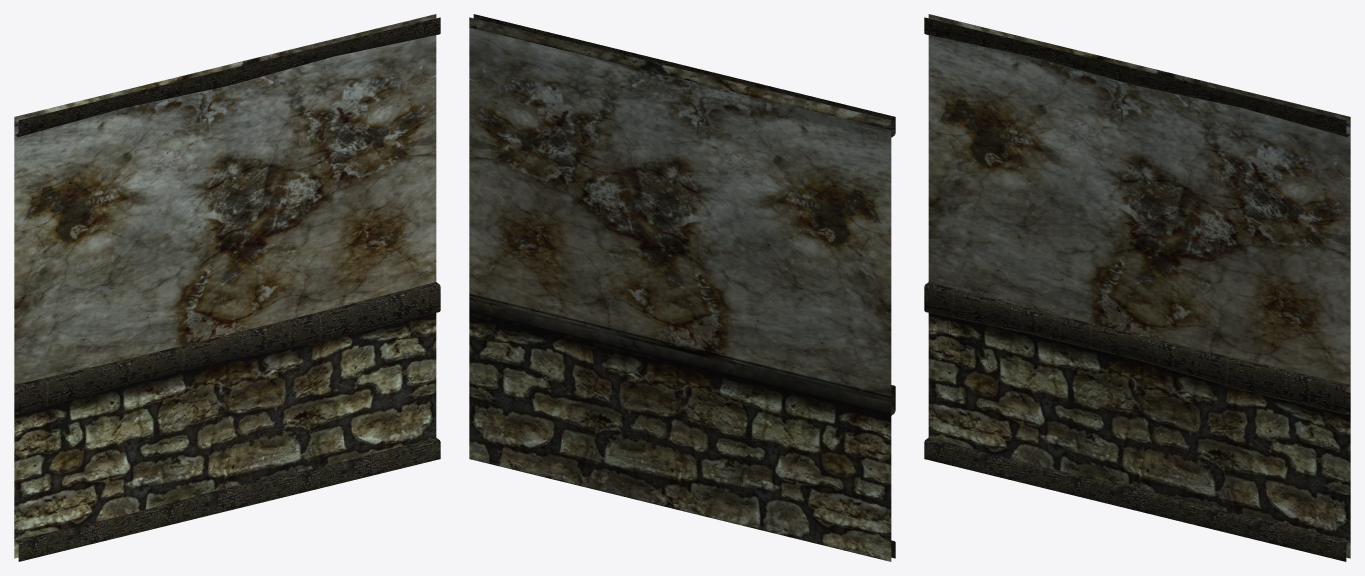
Rendered from cellar_wall_02.DAE.
3 renders of one model, left to right at view 1: azimuth 30°, elevation 25°; view 2: azimuth 150°, elevation 25°; view 3: azimuth 330°, elevation 25°, orthographic.
Parts seen in each view (by area): view 1: Box003, Box004; view 2: Box003, Box004; view 3: Box003, Box004.
Boxes of the visible parts, left/top/right/bottom form: Box003: left=14, top=14, right=436, bottom=558; Box004: left=14, top=17, right=440, bottom=561; Box003: left=469, top=17, right=891, bottom=561; Box004: left=473, top=14, right=895, bottom=558; Box003: left=928, top=14, right=1350, bottom=558; Box004: left=924, top=17, right=1350, bottom=561.
Bounding box in the file's own units: 4 × 4 × 0.0821.
